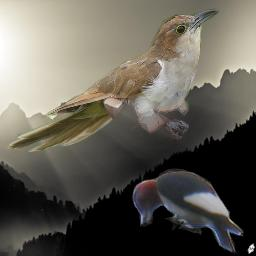Cuckoo: (6, 8, 219, 152)
Woodpecker: (129, 168, 246, 255)
